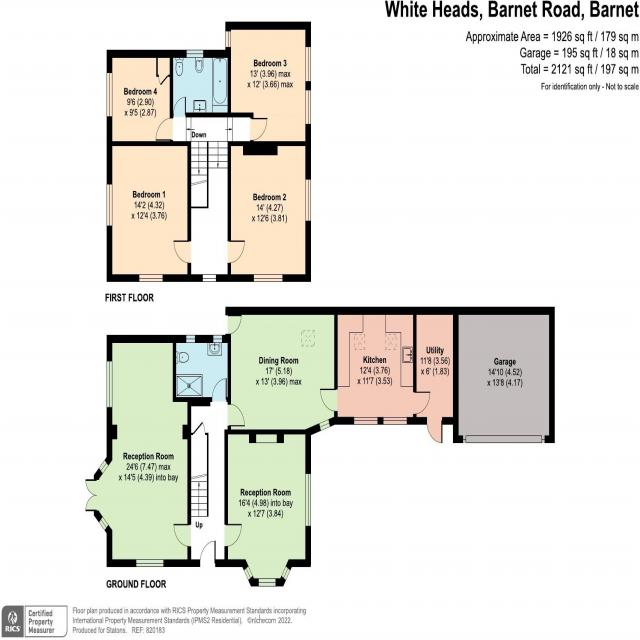DOOR: (319, 307, 432, 425), (154, 116, 175, 141), (199, 539, 217, 568), (172, 239, 192, 265), (226, 402, 246, 428), (172, 523, 192, 549), (223, 523, 243, 548), (426, 416, 443, 444), (227, 240, 246, 265), (250, 117, 268, 143), (319, 388, 338, 412), (412, 391, 431, 415), (211, 376, 227, 404), (223, 315, 243, 335), (172, 95, 188, 119)
DOUBLE DOOR: (84, 478, 99, 513)
ROOM: (85, 333, 192, 568), (226, 306, 338, 435), (223, 429, 311, 587), (106, 141, 192, 283), (227, 140, 312, 282), (225, 21, 312, 156), (106, 49, 173, 147)
WINDOW: (105, 359, 113, 409), (305, 473, 311, 527), (106, 72, 113, 118), (305, 177, 312, 222), (135, 558, 164, 568), (305, 44, 312, 83), (107, 183, 113, 227), (305, 89, 312, 125), (252, 274, 283, 282), (353, 416, 378, 425), (383, 416, 407, 425), (138, 274, 164, 282), (98, 458, 109, 475), (98, 515, 109, 532), (318, 418, 331, 432), (185, 49, 204, 58), (258, 578, 276, 587), (243, 565, 253, 581), (281, 565, 291, 581), (201, 274, 217, 282), (225, 29, 231, 48), (185, 334, 196, 344), (213, 333, 223, 344)
